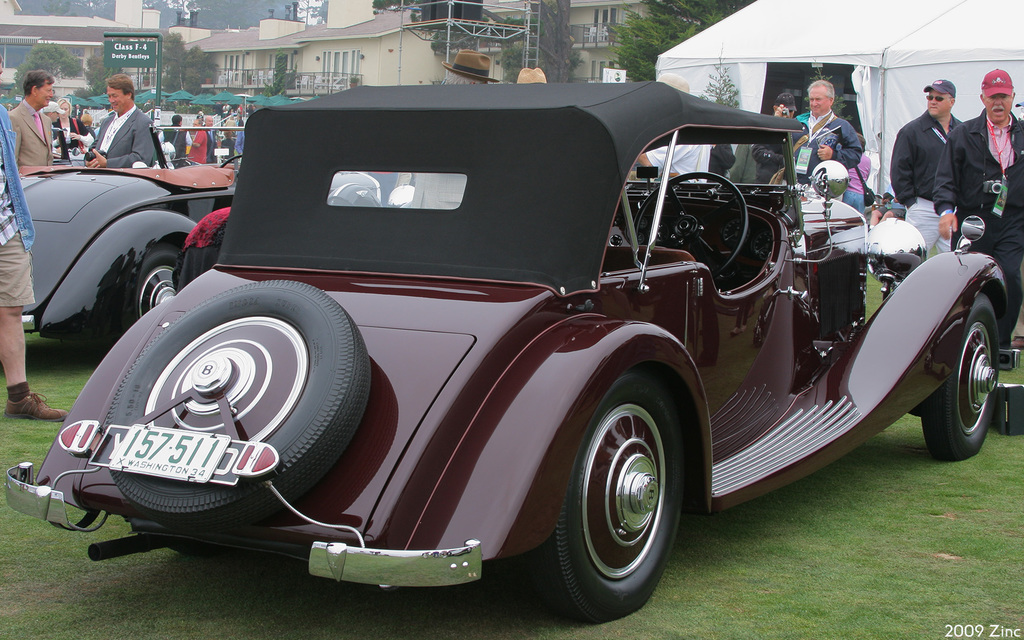Car: (4, 77, 1018, 620), (20, 156, 248, 348)
